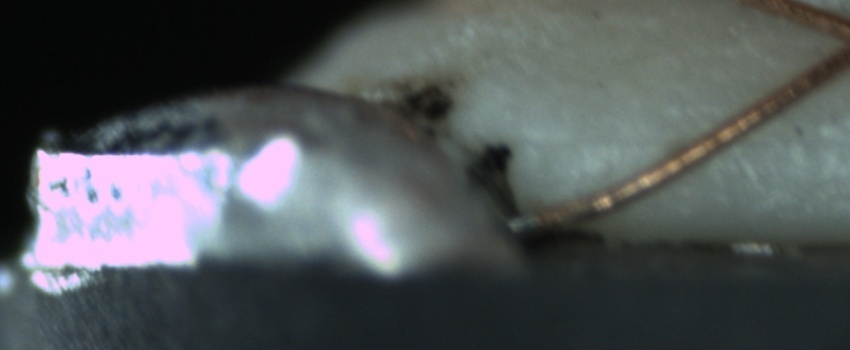DL: (535, 105, 832, 175)
